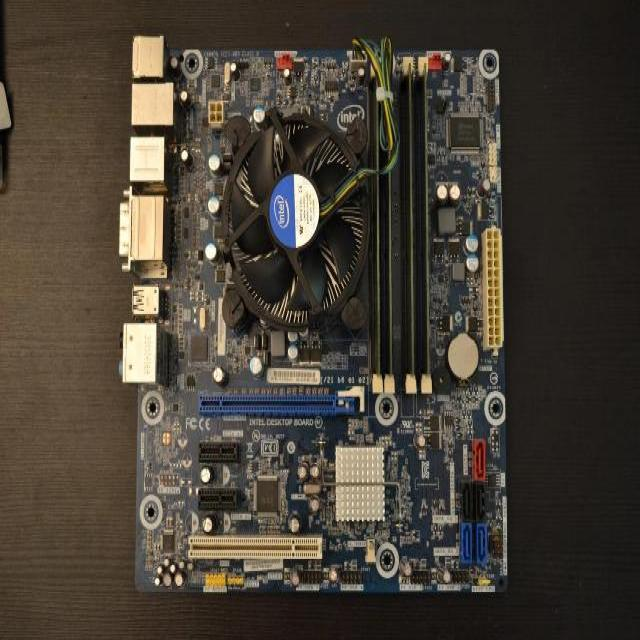CPU_Fan: (220, 105, 369, 332)
RAM: (402, 62, 416, 376), (421, 62, 432, 377)
